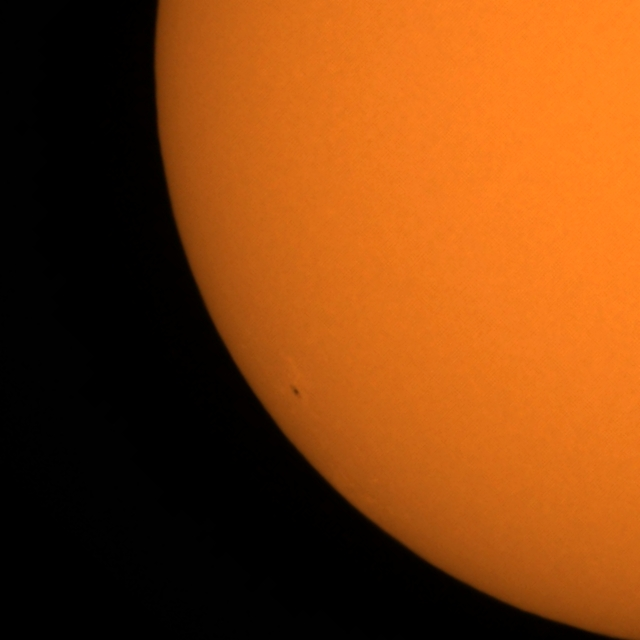sunspot: (289, 383, 302, 399)
